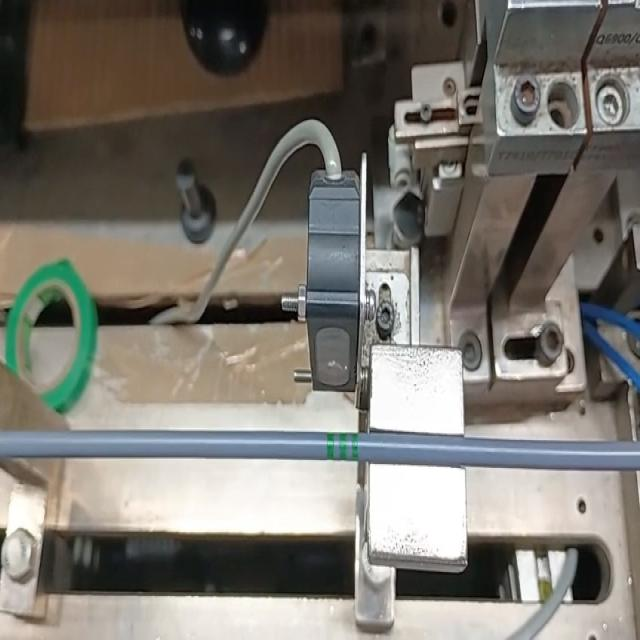green: (325, 432, 361, 460)
